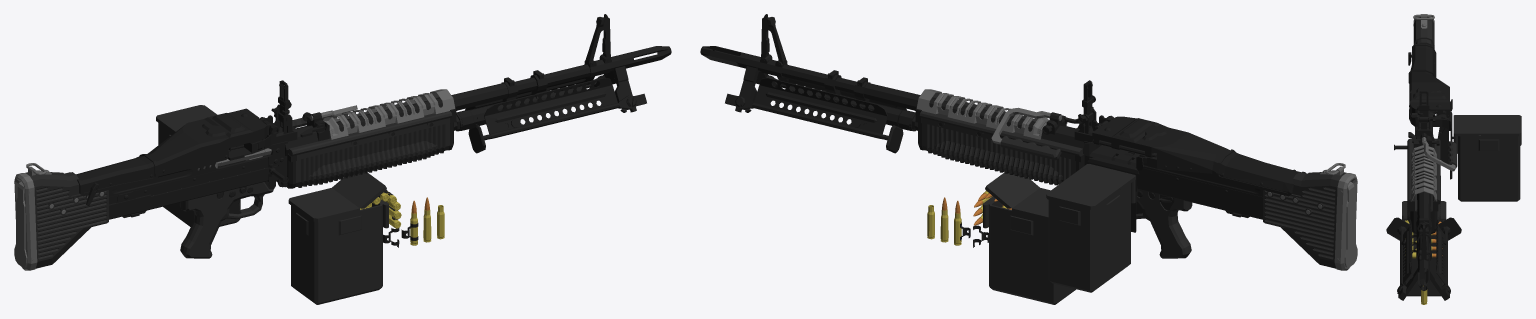
File: m60_machine_gun.glb
3 renders of one model, left to right at view 1: azimuth 30°, elevation 25°; view 2: azimuth 150°, elevation 25°; view 3: azimuth 270°, elevation 25°, orthographic. The views are drawn at different scales.
Visible parts, largest first — view 1: m60 receiver_7, m60 100rnd ammo box_4, m60 handguard_13, m60 cover_9, m60 barrel 22in_5, m60 bipod R leg_15, m60 100rnd empty ammo box_17, m60 charging handle_8, m60 bipod base_14, m60 flash hider_10, m60 bipod L leg_16; view 2: m60 receiver_7, m60 100rnd empty ammo box_17, m60 handguard_13, m60 100rnd ammo box_4, m60 cover_9, m60 barrel 22in_5, m60 bipod L leg_16, m60 bipod base_14, m60 flash hider_10, m60 bipod R leg_15; view 3: m60 100rnd empty ammo box_17, m60 receiver_7, m60 handguard_13, m60 cover_9, m60 barrel 22in_5, m60 100rnd ammo box_4, m60 bipod R leg_15, m60 bipod L leg_16, m60 bipod base_14, m60 flash hider_10.
Boxes of the visible parts, box(x1,y1,x2,y2) form: m60 receiver_7: box(14, 80, 457, 270); m60 100rnd ammo box_4: box(288, 172, 401, 304); m60 handguard_13: box(286, 89, 456, 188); m60 cover_9: box(76, 108, 279, 205); m60 barrel 22in_5: box(336, 14, 615, 131); m60 bipod R leg_15: box(468, 77, 646, 153); m60 100rnd empty ammo box_17: box(156, 105, 240, 226); m60 charging handle_8: box(149, 165, 288, 203); m60 bipod base_14: box(595, 55, 636, 112); m60 flash hider_10: box(620, 46, 671, 68); m60 bipod L leg_16: box(465, 75, 616, 110); m60 receiver_7: box(914, 80, 1357, 270); m60 100rnd empty ammo box_17: box(1046, 164, 1135, 292); m60 handguard_13: box(915, 89, 1084, 185); m60 100rnd ammo box_4: box(973, 172, 1075, 304); m60 cover_9: box(1092, 115, 1305, 196); m60 barrel 22in_5: box(756, 14, 1035, 131); m60 bipod L leg_16: box(725, 77, 903, 153); m60 bipod base_14: box(735, 55, 776, 112); m60 flash hider_10: box(700, 46, 751, 68); m60 bipod R leg_15: box(755, 75, 906, 110); m60 100rnd empty ammo box_17: box(1453, 115, 1521, 201); m60 receiver_7: box(1408, 14, 1457, 179); m60 handguard_13: box(1407, 138, 1440, 233); m60 cover_9: box(1408, 44, 1449, 121); m60 barrel 22in_5: box(1414, 148, 1433, 274); m60 100rnd ammo box_4: box(1402, 201, 1446, 296); m60 bipod R leg_15: box(1386, 217, 1411, 299); m60 bipod L leg_16: box(1436, 217, 1461, 299); m60 bipod base_14: box(1400, 260, 1447, 300); m60 flash hider_10: box(1418, 264, 1429, 290).
Size of the model in its own units: 11.07 by 3.58 by 2.54.
